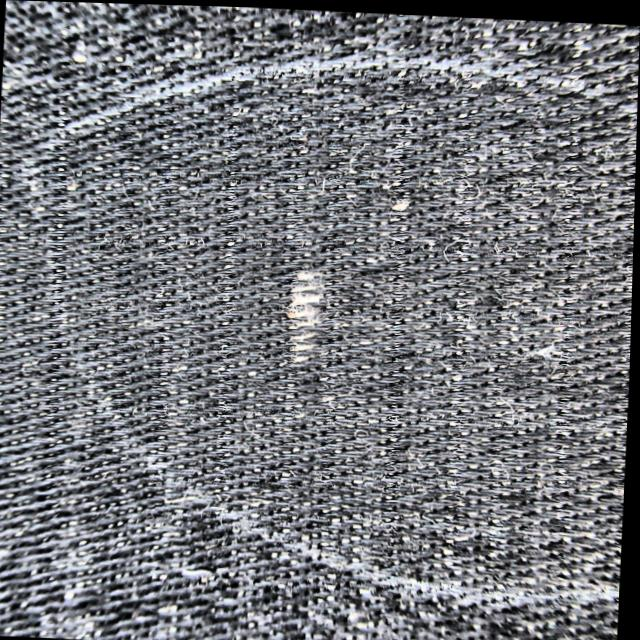Hole: (255, 246, 368, 393), (514, 330, 584, 363)
